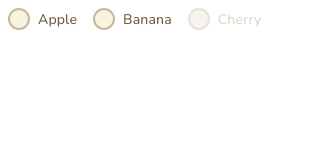
Scenario: Checkbox › controlled 模式 › 父级回写 value 后 UI 同步更新
Click the checkbox labelled "Apple": (19, 19) 8,8 -> 30,30
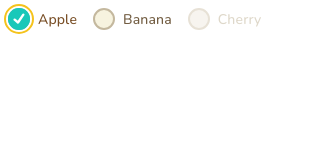
Result: the checkbox labelled "Apple" is checked at 8,8 -> 30,30
Click the checkbox labelled "Banana": (104, 19) 93,8 -> 115,30
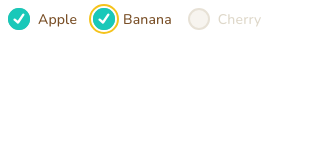
Result: the checkbox labelled "Banana" is checked at 93,8 -> 115,30
Click the checkbox labelled "Apple": (19, 19) 8,8 -> 30,30
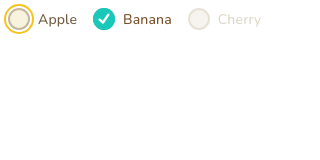
Result: the checkbox labelled "Apple" is not checked at 8,8 -> 30,30
